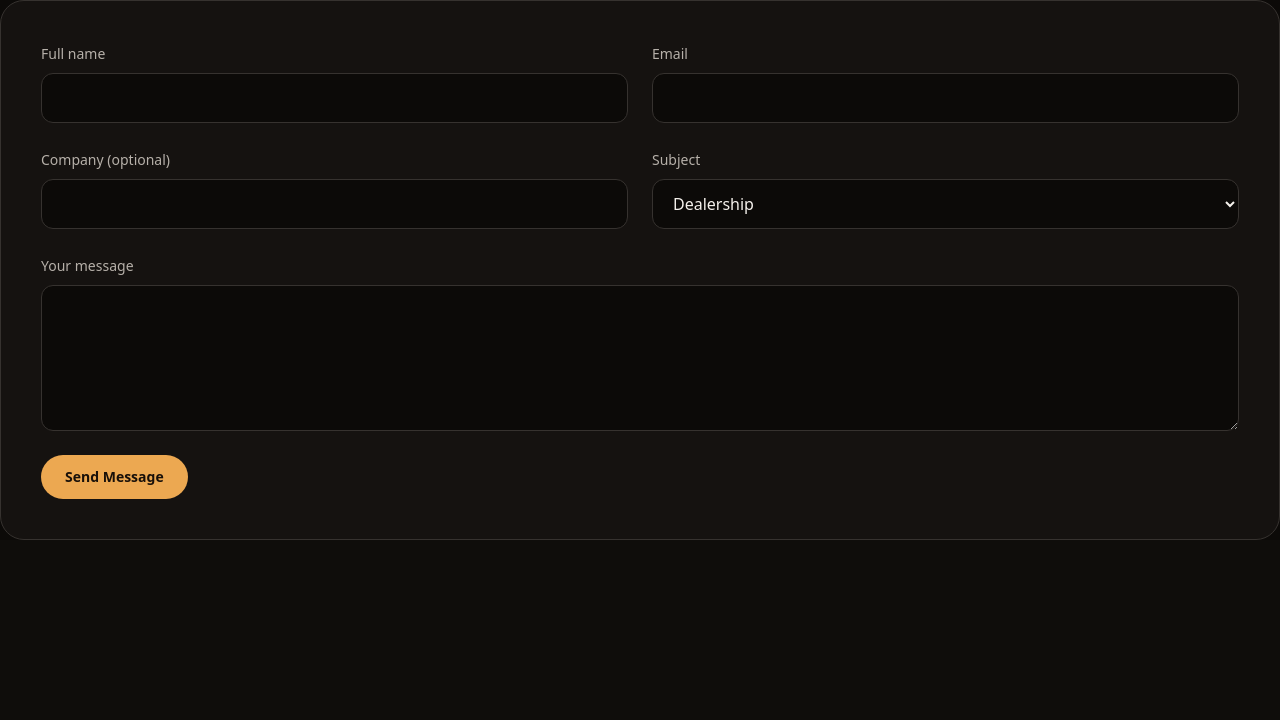
it: ContactForm › hata mesajlarını İngilizce gösterir
Click the button "Send Message" at (114, 477), box x1=41 y1=455 x2=188 y2=499
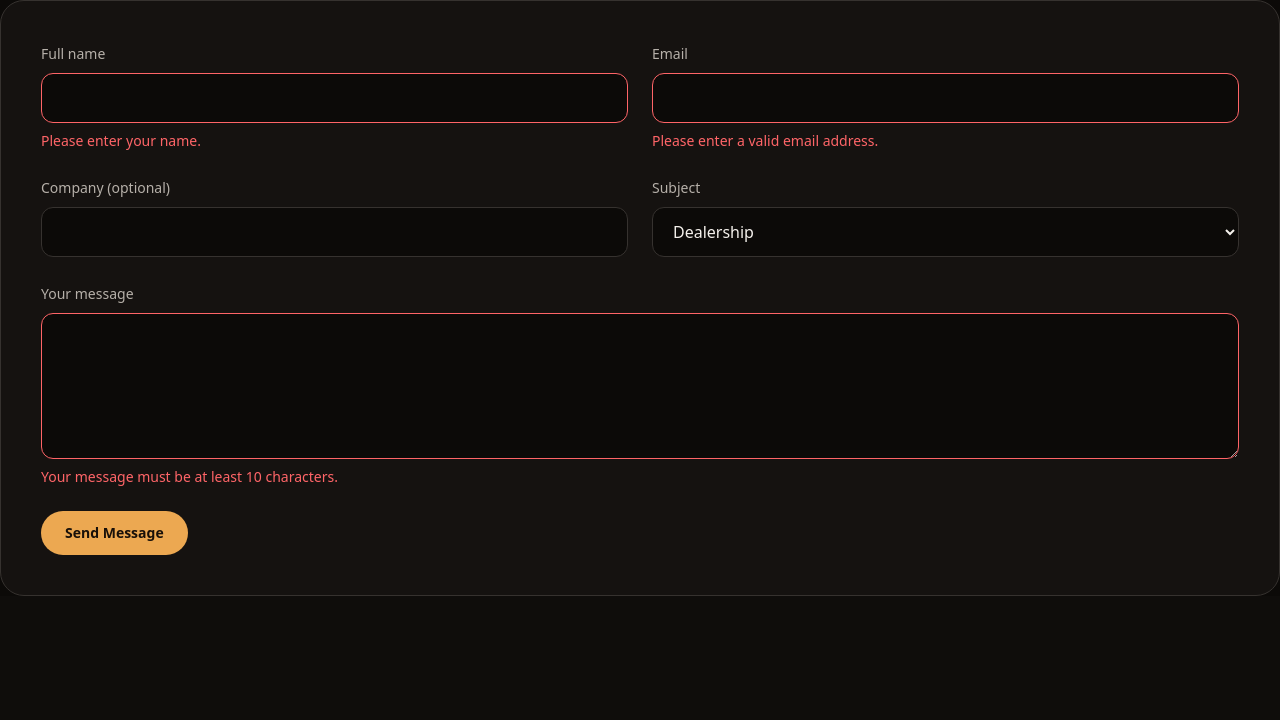
Now the text "Please enter your name." is shown, box x1=41 y1=131 x2=201 y2=150
